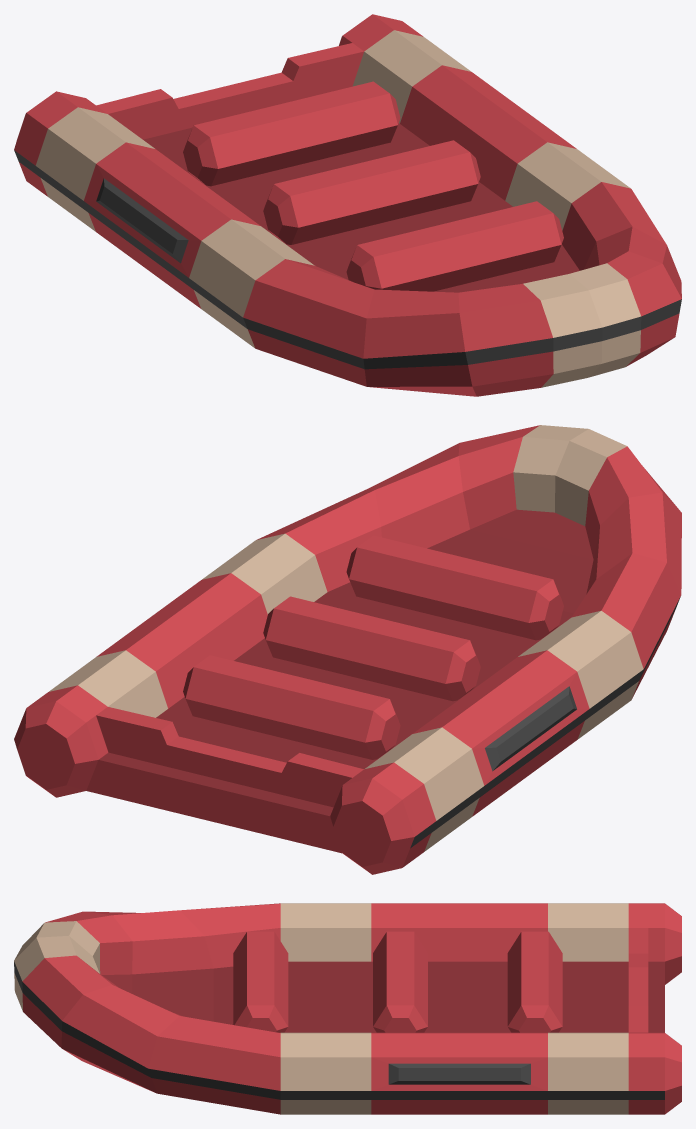
Rendered from Lifeboat.glb.
The picture shows the model from 3 angles, top to bottom: view 1: azimuth 30°, elevation 25°; view 2: azimuth 150°, elevation 25°; view 3: azimuth 270°, elevation 25°; orthographic projection. The views are drawn at different scales.
Visible parts, largest first — view 1: Lifeboat; view 2: Lifeboat; view 3: Lifeboat.
Part boxes in pixels (x1,y1,x2,y2): Lifeboat: [14, 14, 681, 396]; Lifeboat: [14, 425, 681, 874]; Lifeboat: [14, 903, 681, 1114].
Size of the model in its own units: 0.6471 by 0.209 by 1.11.
